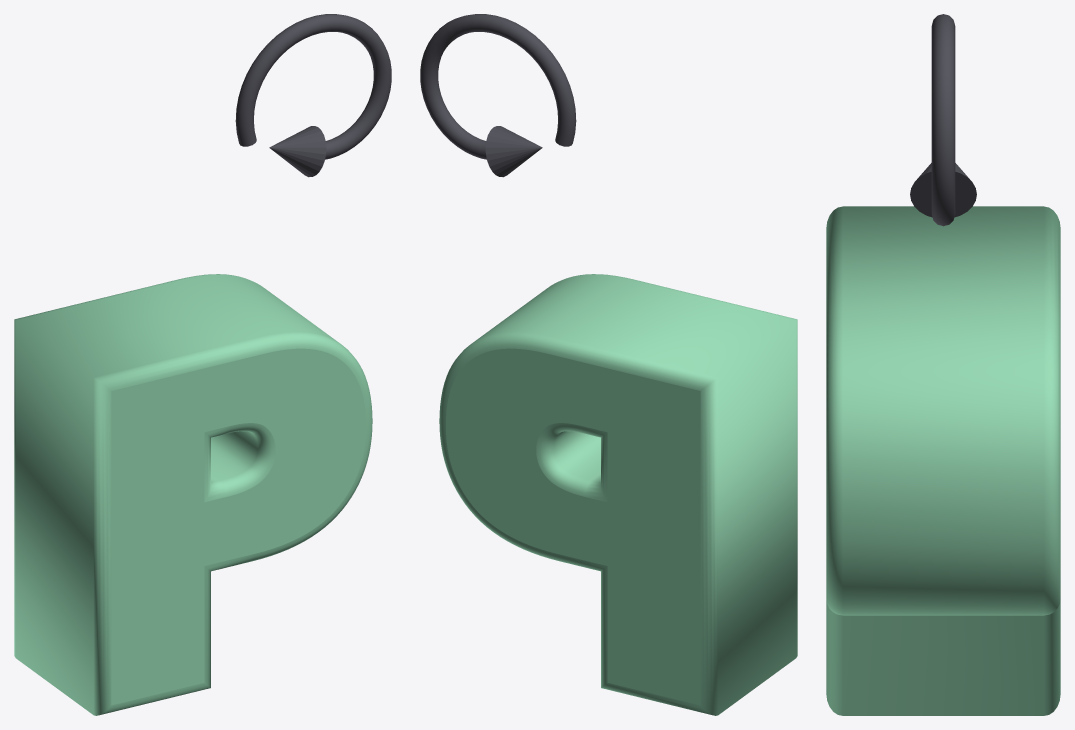
3 views of the same model, side by side, from view 1: azimuth 30°, elevation 25°; view 2: azimuth 150°, elevation 25°; view 3: azimuth 270°, elevation 25° (orthographic). The views are drawn at different scales.
Visible parts, largest first — view 1: Lettre_P, Boucle, Fleche; view 2: Lettre_P, Boucle, Fleche; view 3: Lettre_P, Boucle, Fleche.
Part boxes in pixels (bbox=[...]): Lettre_P: bbox=[14, 274, 372, 715]; Boucle: bbox=[235, 14, 391, 159]; Fleche: bbox=[269, 126, 326, 177]; Lettre_P: bbox=[439, 274, 797, 715]; Boucle: bbox=[420, 14, 576, 159]; Fleche: bbox=[485, 126, 542, 177]; Lettre_P: bbox=[826, 206, 1060, 715]; Boucle: bbox=[931, 14, 955, 226]; Fleche: bbox=[910, 163, 976, 217].
Bounding box in the file's own units: 1.5 × 2.58 × 0.7.
